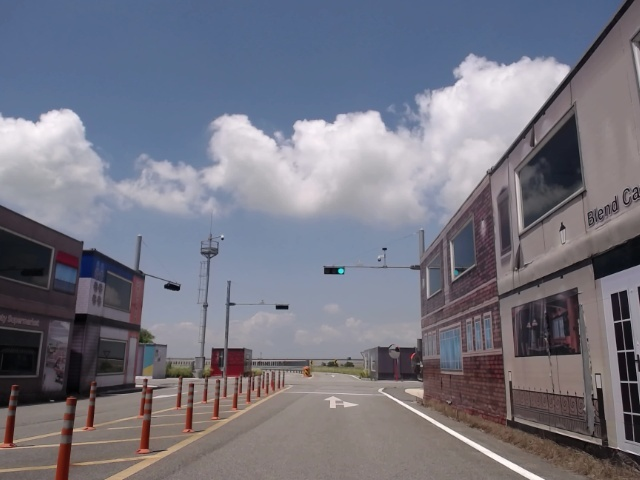green_3: (325, 267, 344, 275)
